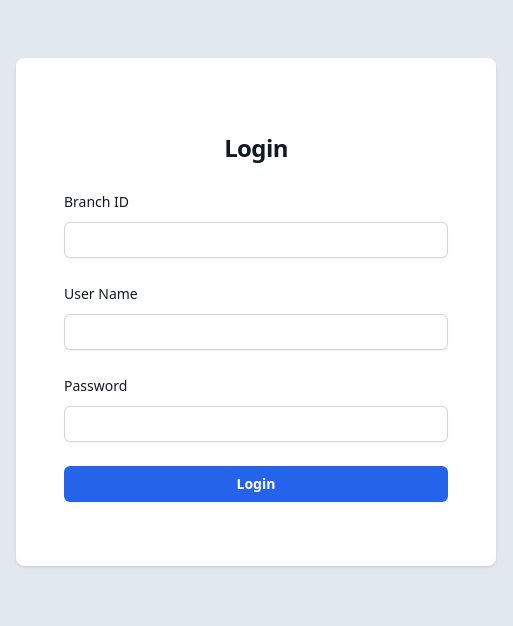
Test case: should validate form fields
Click the button "Login" at x=256, y=484, box left=64, top=466, right=448, bottom=502
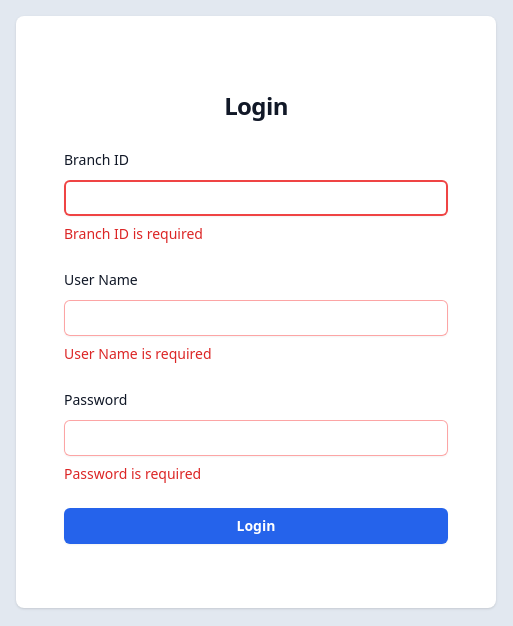
Now the text "Branch ID is required" is shown, box left=64, top=224, right=203, bottom=243
Now the text "User Name is required" is shown, box left=64, top=344, right=212, bottom=363
Now the text "Password is required" is shown, box left=64, top=464, right=201, bottom=483
